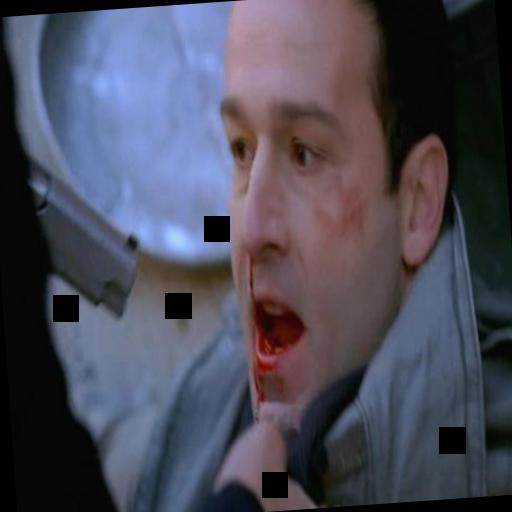Handgun: (0, 116, 141, 336)
